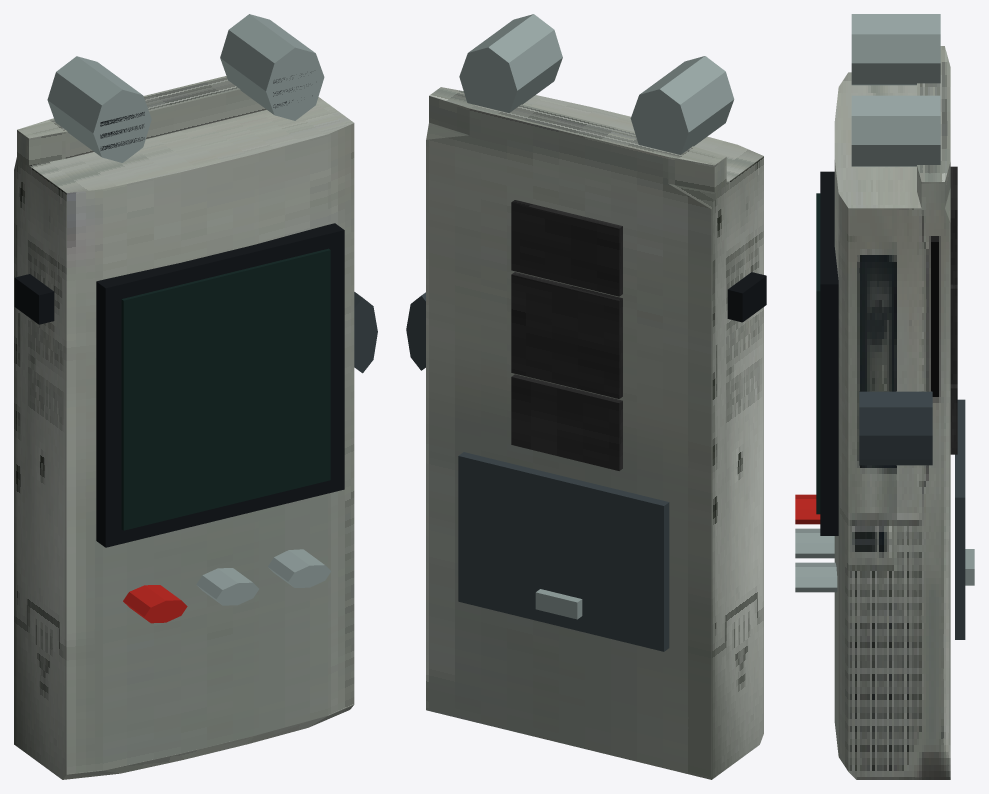
The model's file is blender_sound_recorder_3.glb.
3 views of the same model, side by side, from view 1: azimuth 30°, elevation 25°; view 2: azimuth 150°, elevation 25°; view 3: azimuth 270°, elevation 25° (orthographic). The views are drawn at different scales.
Visible parts, largest first — view 1: Beckenburg_sound_recorder_T3; view 2: Beckenburg_sound_recorder_T3; view 3: Beckenburg_sound_recorder_T3.
Boxes of the visible parts, bbox=[...] form: Beckenburg_sound_recorder_T3: bbox=[14, 14, 377, 779]; Beckenburg_sound_recorder_T3: bbox=[406, 14, 766, 779]; Beckenburg_sound_recorder_T3: bbox=[795, 14, 974, 779].
Bounding box in the file's own units: 0.142 × 0.277 × 0.0685.
1 material, 1 textured.
